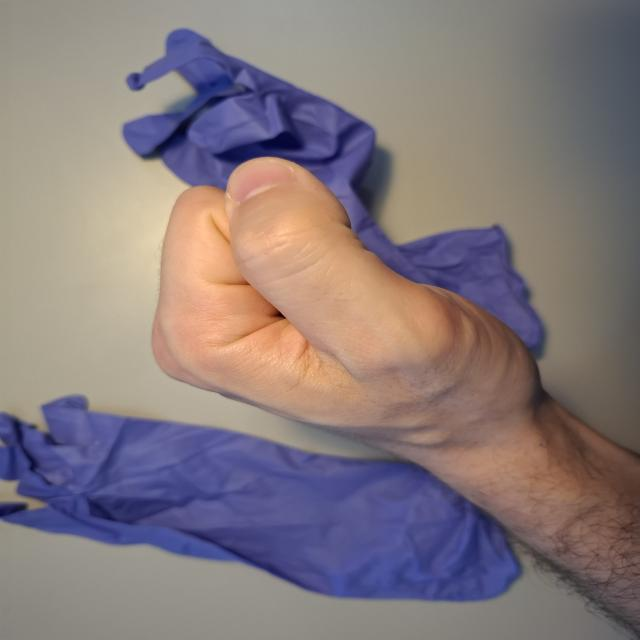glove_off: (143, 156, 588, 478)
